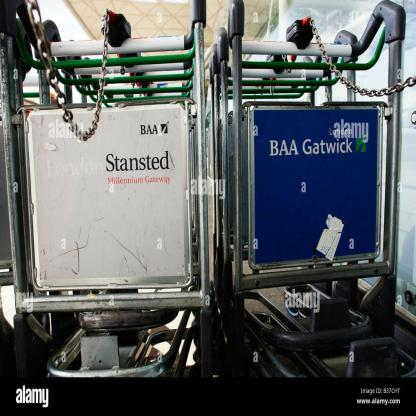airport-trolley: (0, 0, 214, 379), (207, 0, 416, 377), (226, 0, 415, 377)
